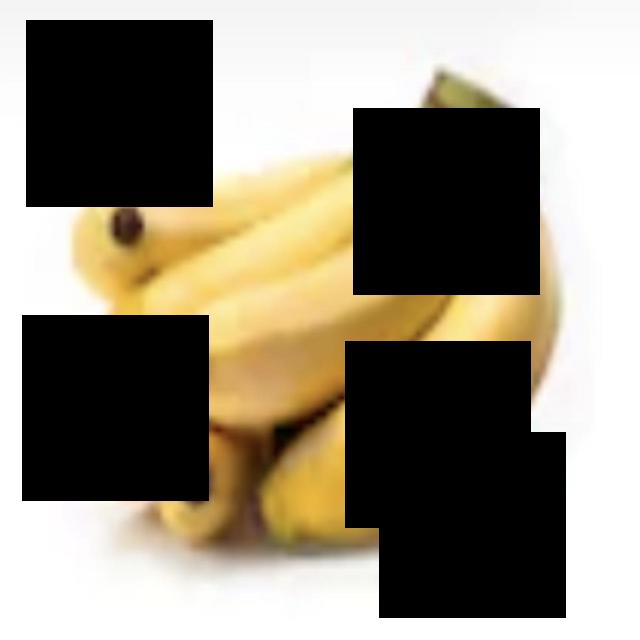banana: (243, 154, 569, 582), (147, 156, 483, 436)
